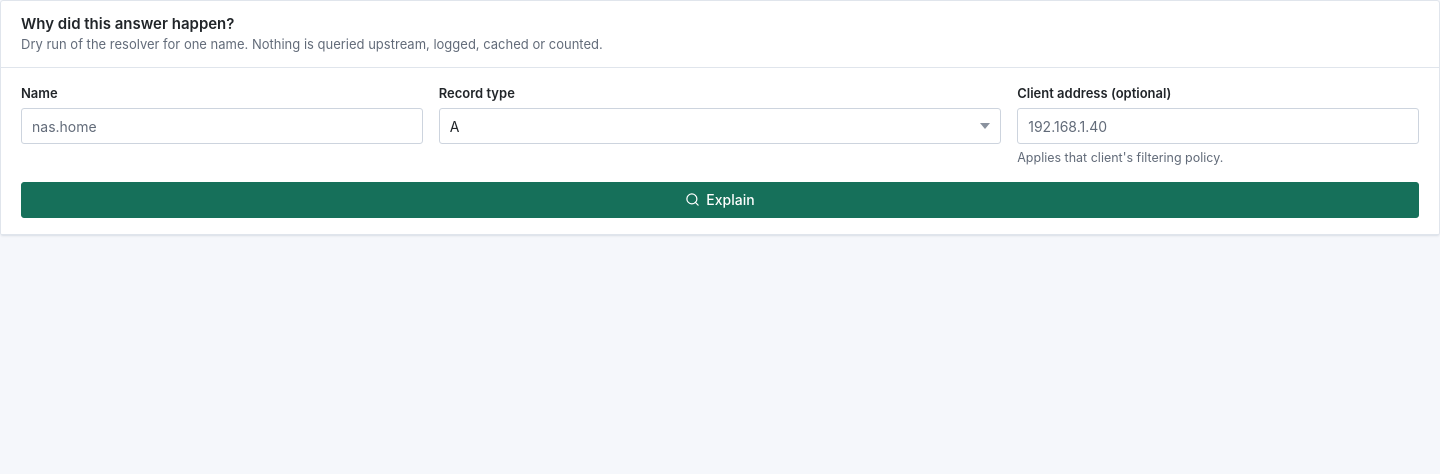
it: states that an upstream was not contacted and omits an empty client
Type "app.corp.example" into the field labelled "Name" at (222, 126), box [21,108,423,144]
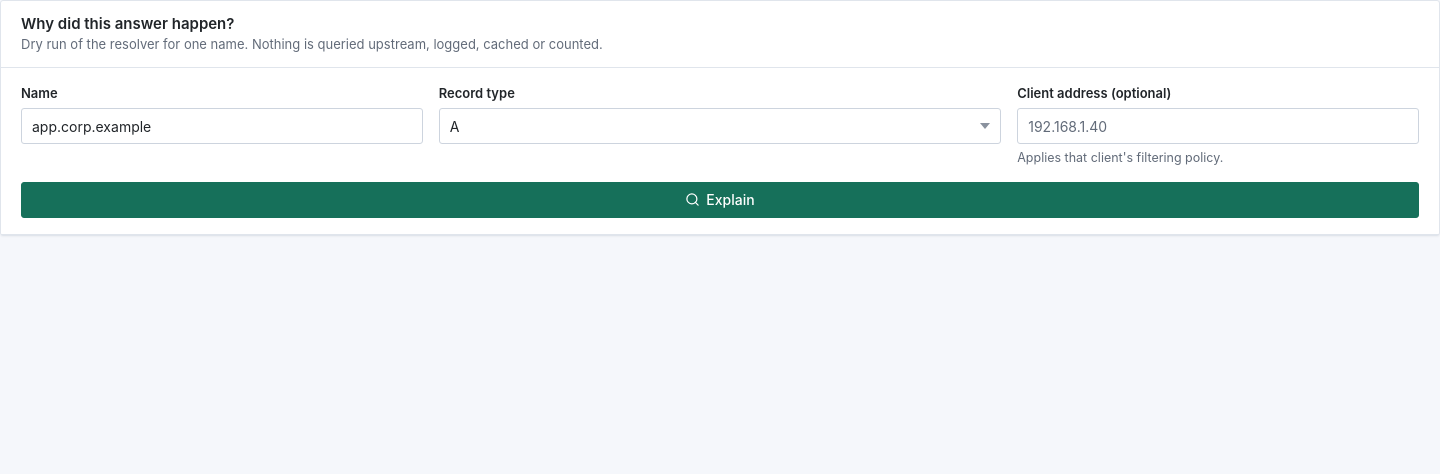
Click the button "Explain" at (720, 200), box [21,182,1419,218]
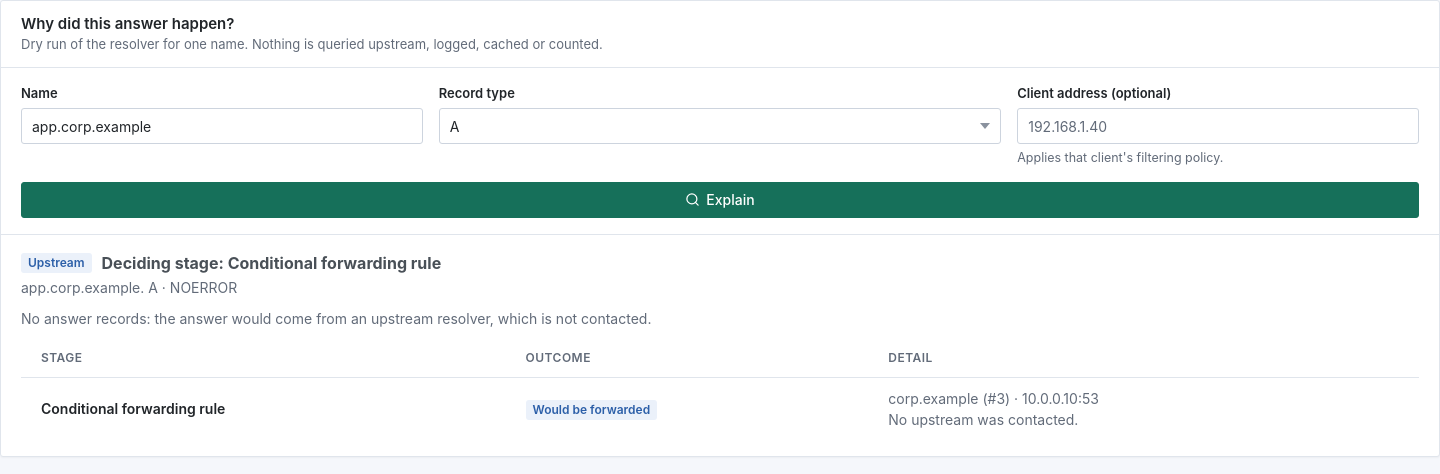
Expected: the text "corp.example (#3) · 10.0.0.10:53" is shown, [888,390,1099,407]
Expected: the text "No upstream was contacted." is shown, [888,411,1078,428]
Expected: the text "No answer records" is shown, [21,310,651,327]
